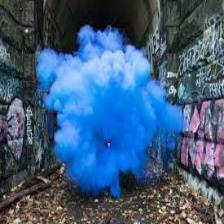smoke: (42, 42, 167, 194)
